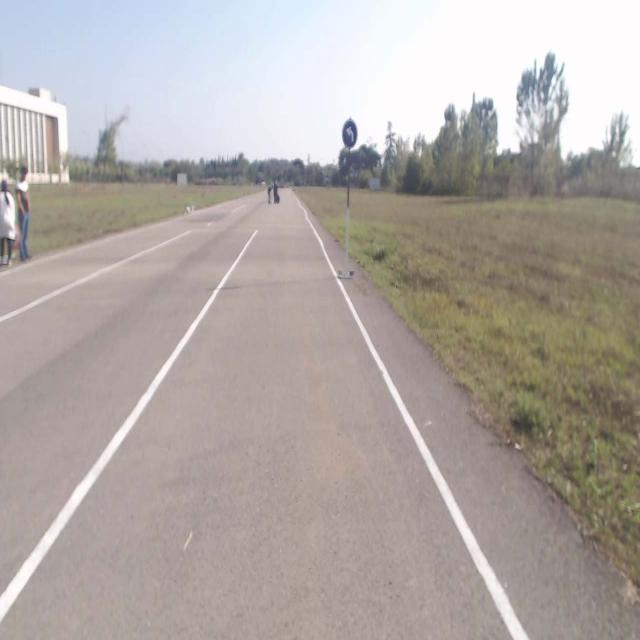sol: (342, 121, 358, 147)
